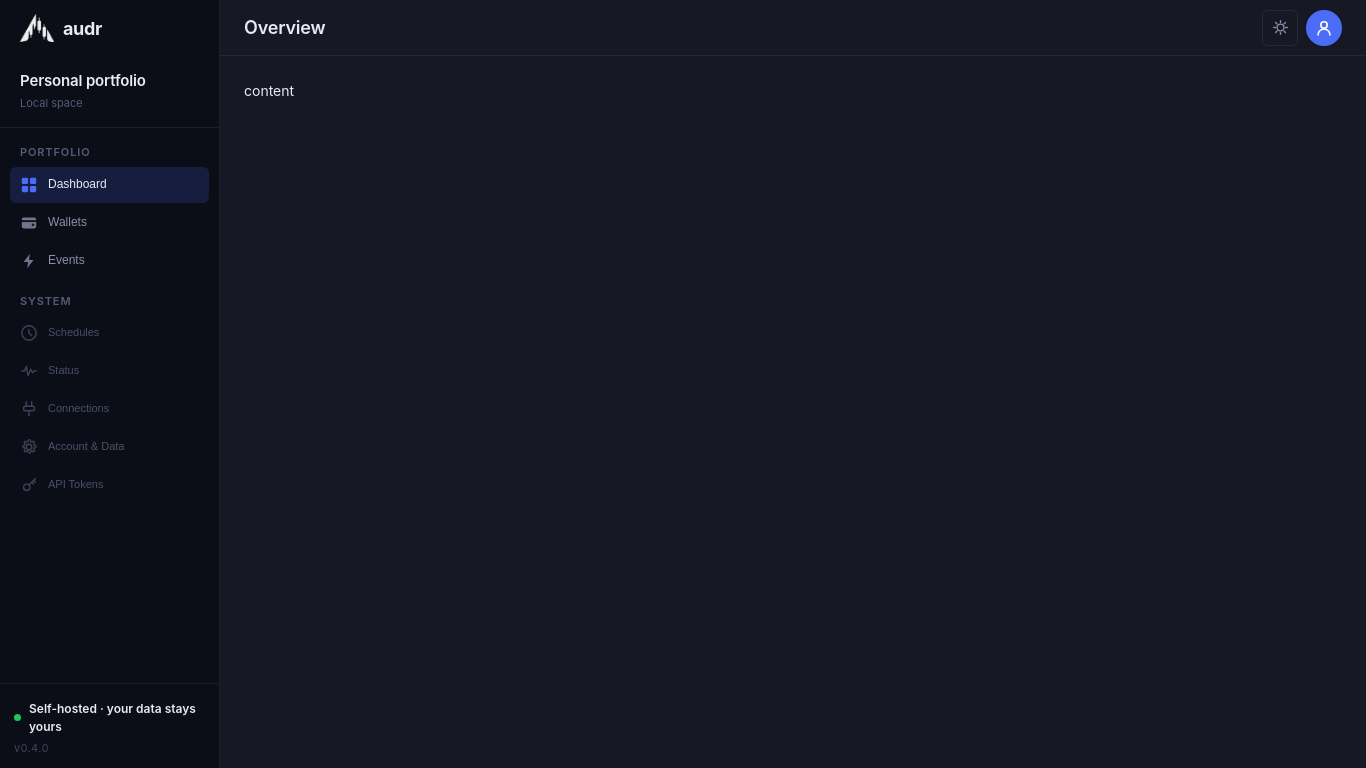
Test: Layout › opens the menu on avatar click and shows exactly one Sign out control in the whole layout
This screenshot has width=1366, height=768.
Click the button named "Account menu" at (1324, 28), box [1306, 10, 1342, 46]
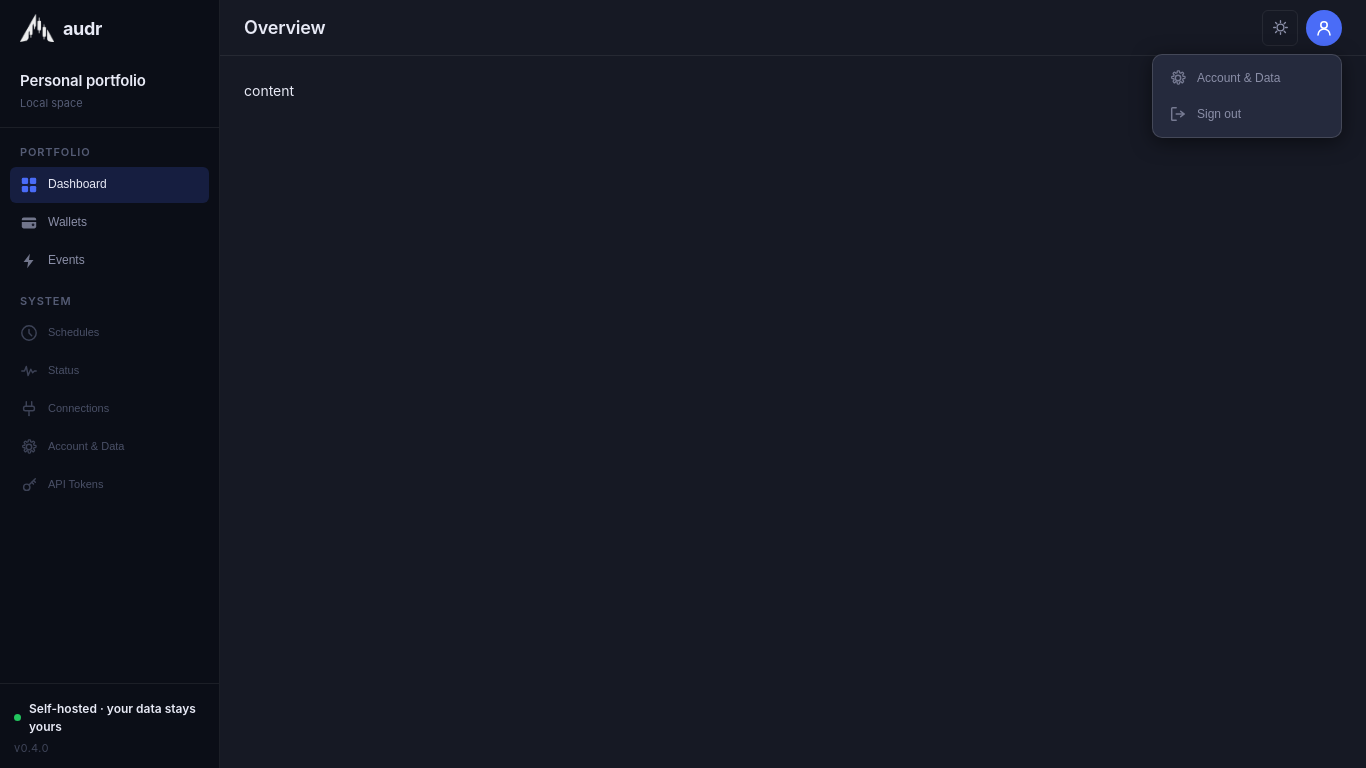
expect the menu is shown: met, box [1152, 54, 1342, 138]
